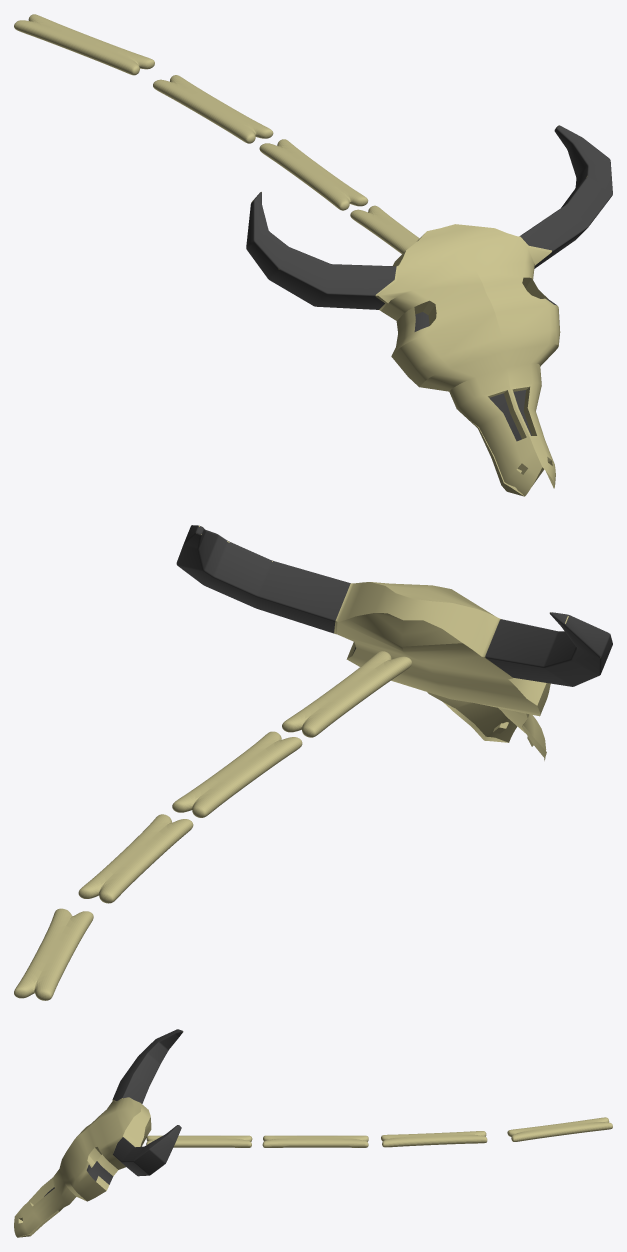
File: col_iskelet.fbx
3 views of the same model, one above another, from view 1: azimuth 30°, elevation 25°; view 2: azimuth 150°, elevation 25°; view 3: azimuth 270°, elevation 25° (orthographic). The views are drawn at different scales.
Visible parts, largest first — view 1: Cube, Cube.004, Cube.003, Cube.002, Cube.001; view 2: Cube, Cube.001, Cube.002, Cube.003, Cube.004; view 3: Cube, Cube.002, Cube.003, Cube.004, Cube.001.
Part boxes in pixels (x1,y1,x2,y2): Cube: [246, 125, 612, 496]; Cube.004: [14, 14, 154, 75]; Cube.003: [153, 75, 273, 143]; Cube.002: [259, 139, 368, 210]; Cube.001: [350, 205, 419, 253]; Cube: [176, 525, 612, 760]; Cube.001: [282, 651, 411, 737]; Cube.002: [172, 731, 302, 817]; Cube.003: [78, 814, 193, 903]; Cube.004: [14, 908, 93, 1000]; Cube: [14, 1029, 183, 1237]; Cube.002: [262, 1135, 368, 1147]; Cube.003: [381, 1131, 487, 1147]; Cube.004: [507, 1117, 612, 1141]; Cube.001: [146, 1135, 252, 1147].
Size of the model in its own units: 333 by 220 by 765.
